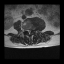CCS_normal: (28, 28, 30, 35)
LFS_severe_stenosis: (31, 27, 33, 32)
LLS_stenosis: (30, 28, 31, 33)
RFS_stenosis: (25, 27, 27, 32)
RLS_normal: (27, 28, 28, 33)
